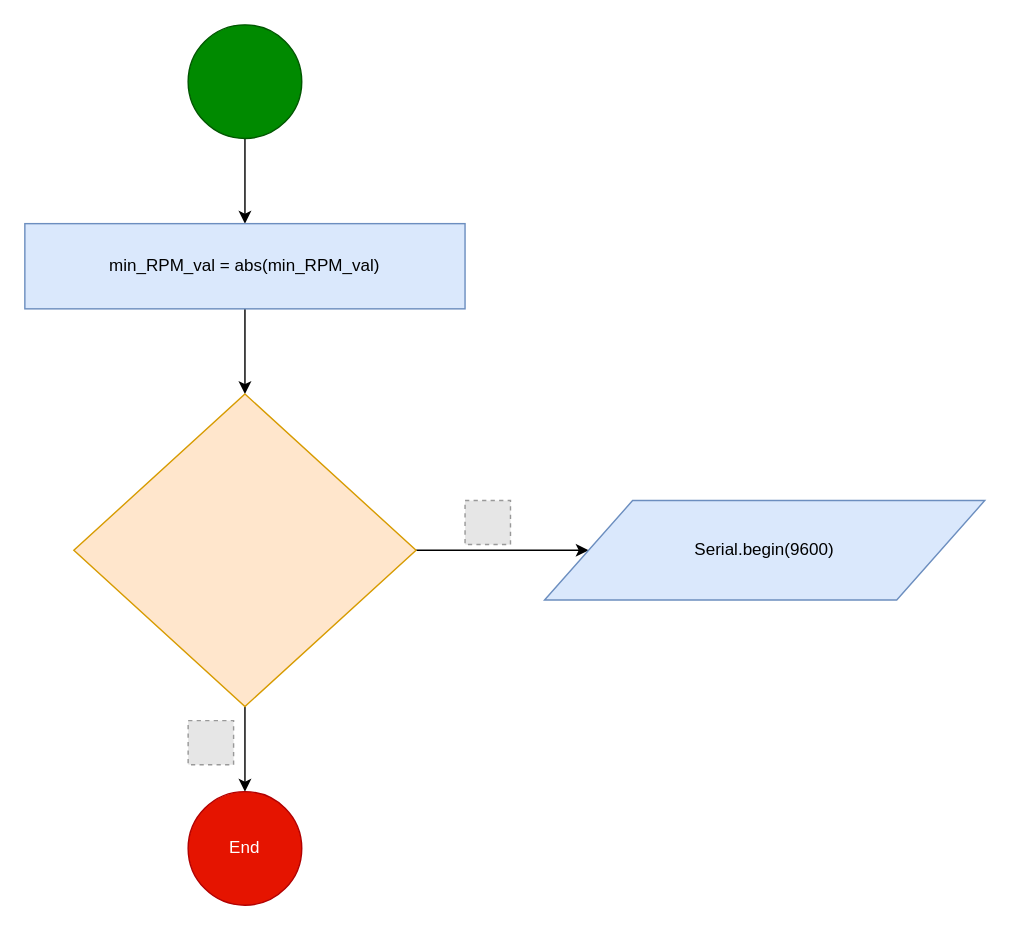
Some shapes in this 1010 by 930 pixel diagram are drawn without their labels. Grey dashed boxes stand in for pictures. The shapes that lost their labels are listed below. From the top down, each one's centre as x and y in pixels, then its label:
point 244,80: Start
point 244,549: verbose
